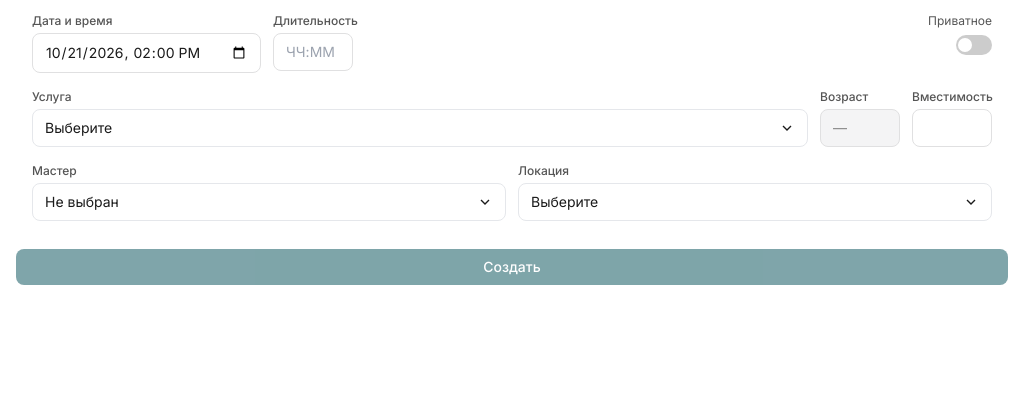
Test: CreateActivityTab (create-режим общего ActivityForm, GH #280) › auto-fills duration «ЧЧ:ММ» from the service; re-selection overwrites
This screenshot has width=1024, height=406.
Click the button with test id "combobox-trigger" below "Услуга": (79, 128) [32,109,808,147]
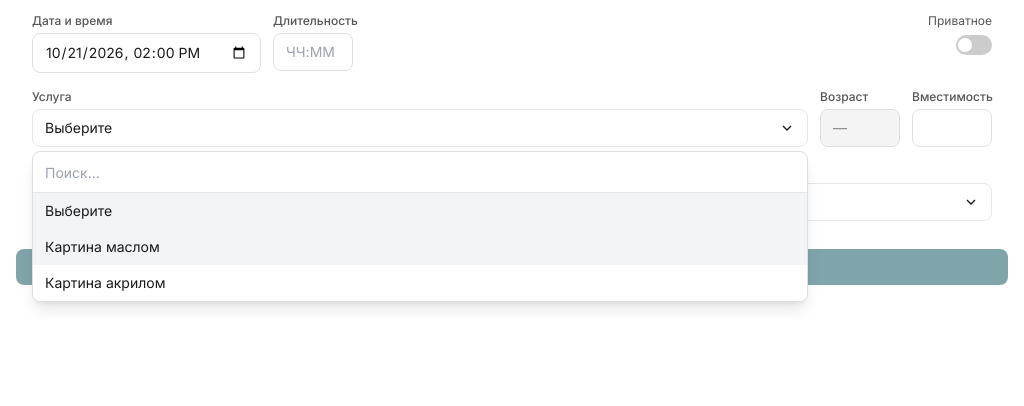
Click the option "Картина маслом": (102, 246) [33,229,807,265]
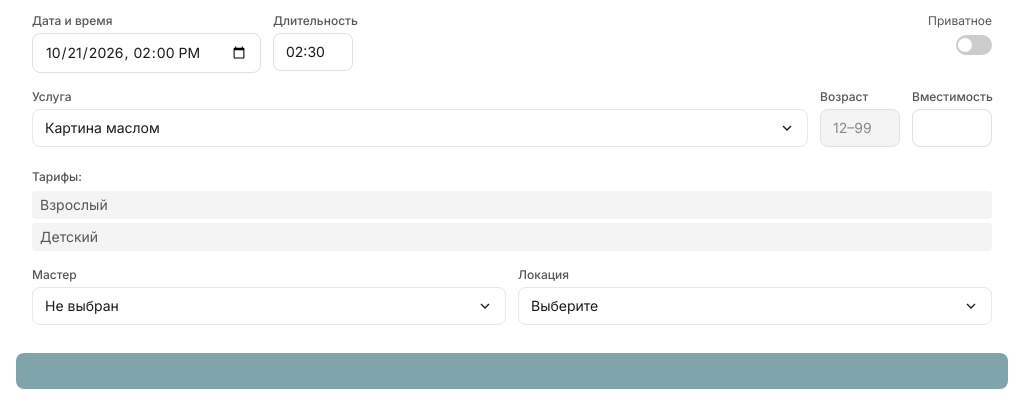
Expected: the field with test id "create-duration" holds "02:30", [273,33,353,71]
Click the button with test id "combobox-trigger" showing "Картина маслом": (102, 128) [32,109,808,147]
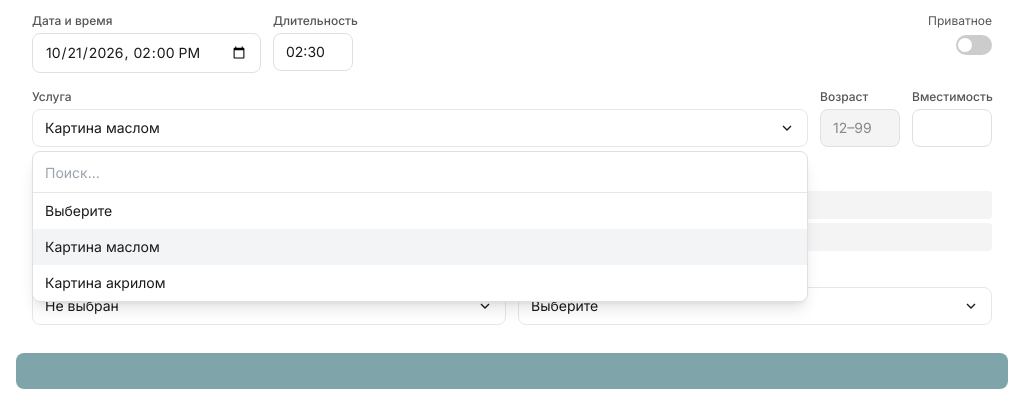
Click the option "Картина акрилом": (105, 282) [33,265,807,301]
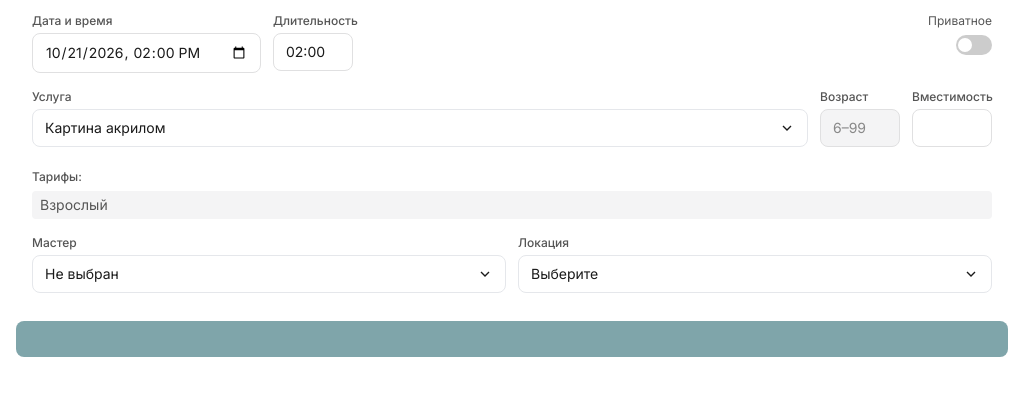
Expected: the field with test id "create-duration" holds "02:00", [273,33,353,71]
